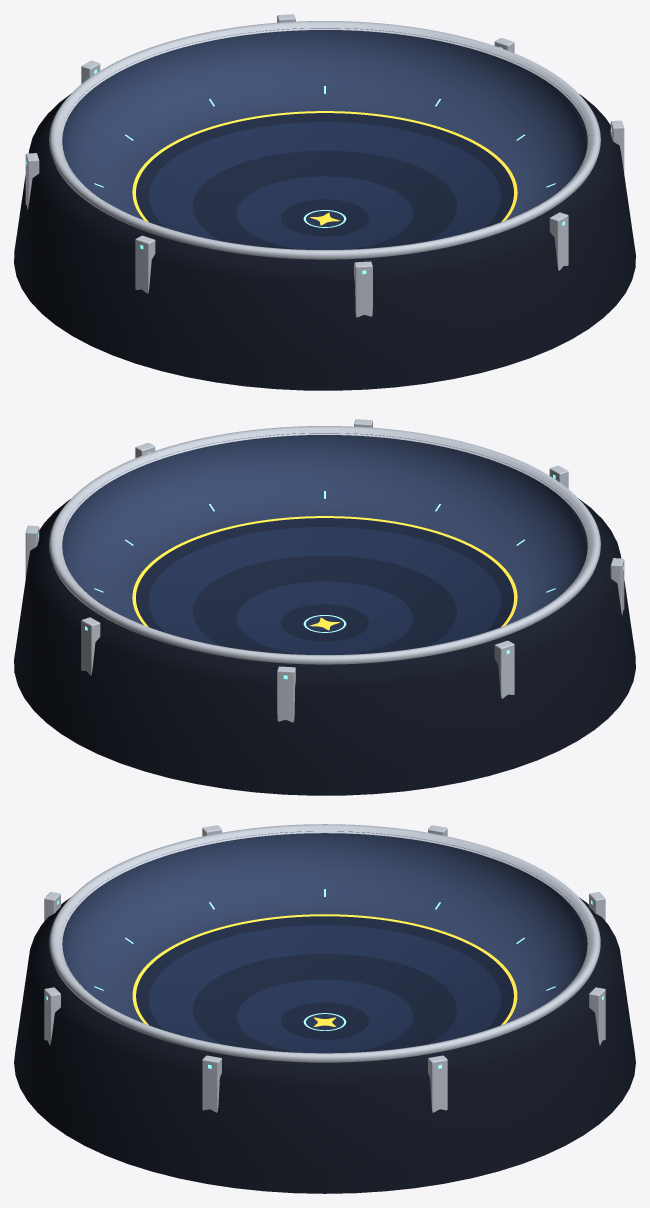
Rendered from arena.glb.
The picture shows the model from 3 angles, top to bottom: view 1: azimuth 30°, elevation 25°; view 2: azimuth 150°, elevation 25°; view 3: azimuth 270°, elevation 25°; orthographic projection.
Parts seen in each view (by area): view 1: Skirt, Rim.002, Floor 4, Lip, Floor 3, Floor 2, Floor 5, Floor 1, Floor Line, Pillar 5, Pillar 4, Pillar 6; view 2: Skirt, Rim.002, Floor 4, Lip, Floor 3, Floor 2, Floor 5, Floor 1, Floor Line, Pillar 2, Pillar 3, Pillar 1; view 3: Skirt, Rim.002, Floor 4, Lip, Floor 3, Floor 2, Floor 5, Floor 1, Floor Line, Pillar 0, Pillar 7, Pillar 1 (+1 smaller).
Part boxes in pixels (left/top/right/bottom): Skirt: left=14, top=93, right=635, bottom=390; Rim.002: left=62, top=28, right=587, bottom=220; Floor 4: left=149, top=122, right=500, bottom=241; Lip: left=49, top=21, right=600, bottom=259; Floor 3: left=193, top=150, right=456, bottom=249; Floor 2: left=237, top=176, right=412, bottom=249; Floor 5: left=136, top=113, right=513, bottom=227; Floor 1: left=281, top=199, right=368, bottom=236; Floor Line: left=132, top=111, right=517, bottom=221; Pillar 5: left=354, top=261, right=372, bottom=317; Pillar 4: left=135, top=235, right=155, bottom=293; Pillar 6: left=549, top=212, right=568, bottom=270; Skirt: left=14, top=498, right=635, bottom=795; Rim.002: left=62, top=433, right=587, bottom=625; Floor 4: left=149, top=527, right=500, bottom=646; Lip: left=49, top=426, right=600, bottom=664; Floor 3: left=193, top=555, right=456, bottom=654; Floor 2: left=237, top=581, right=412, bottom=654; Floor 5: left=136, top=518, right=513, bottom=632; Floor 1: left=281, top=604, right=368, bottom=641; Floor Line: left=132, top=516, right=517, bottom=626; Pillar 2: left=277, top=666, right=295, bottom=722; Pillar 3: left=494, top=640, right=514, bottom=698; Pillar 1: left=81, top=617, right=100, bottom=675; Skirt: left=14, top=897, right=635, bottom=1193; Rim.002: left=62, top=831, right=587, bottom=1023; Floor 4: left=149, top=925, right=500, bottom=1044; Lip: left=49, top=824, right=600, bottom=1062; Floor 3: left=193, top=953, right=456, bottom=1052; Floor 2: left=237, top=979, right=412, bottom=1053; Floor 5: left=136, top=916, right=513, bottom=1030; Floor 1: left=281, top=1002, right=368, bottom=1039; Floor Line: left=132, top=914, right=517, bottom=1024; Pillar 0: left=428, top=1055, right=447, bottom=1112; Pillar 7: left=202, top=1055, right=221, bottom=1112; Pillar 1: left=589, top=987, right=605, bottom=1045.
Bounding box in the file's own units: 42.4 × 9.25 × 42.4.
